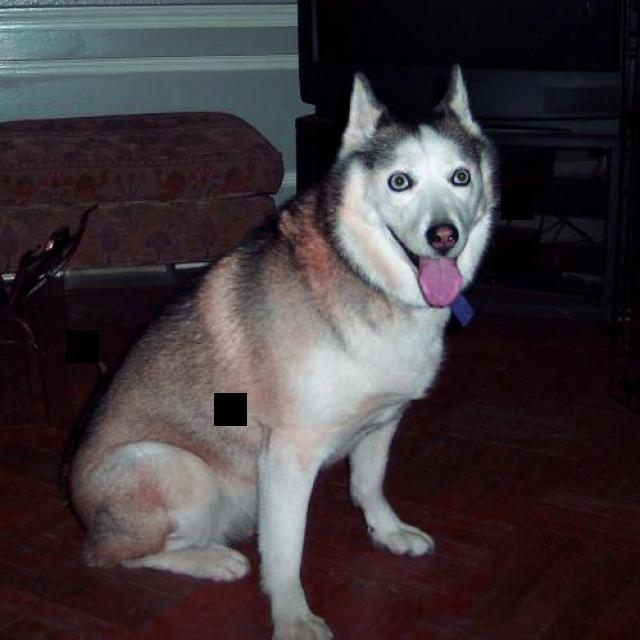adult_dog: (57, 61, 505, 640)
